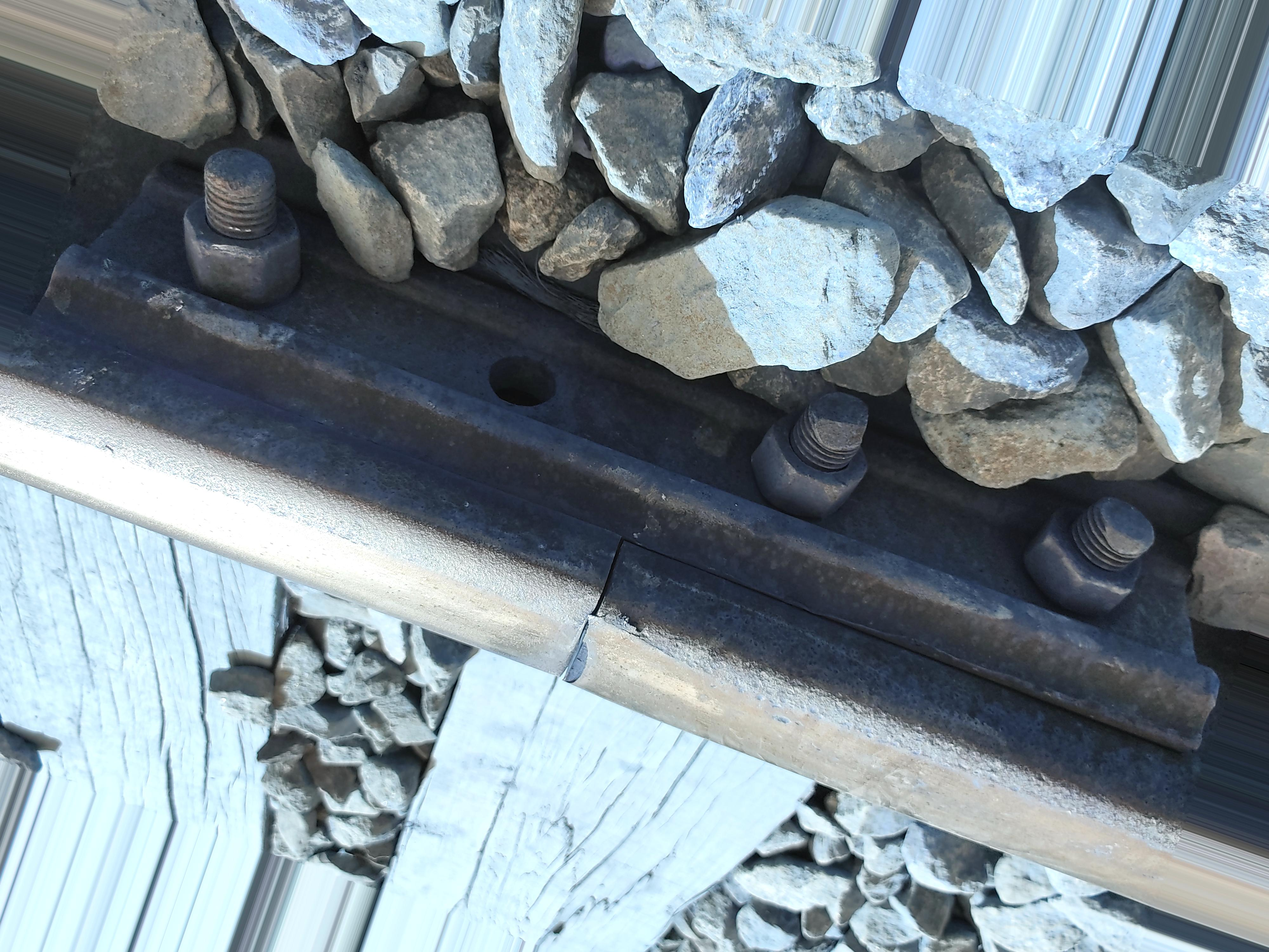tracks_fault: (677, 600, 1207, 862)
